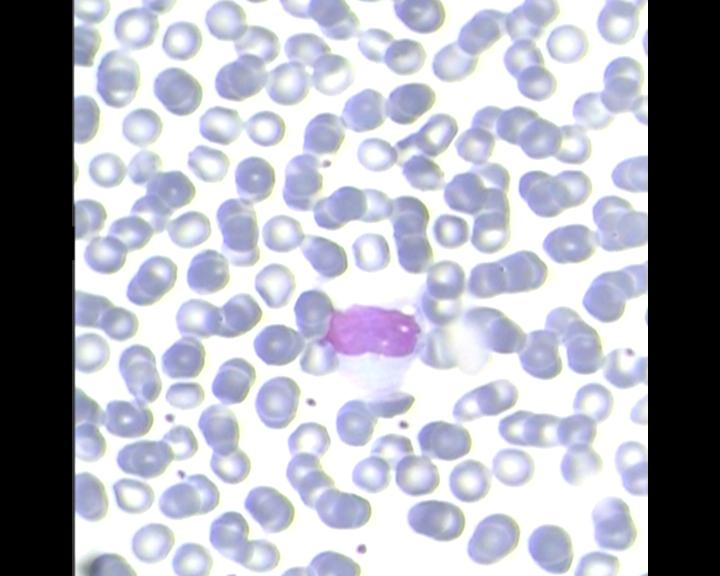mono: (316, 296, 426, 394)
